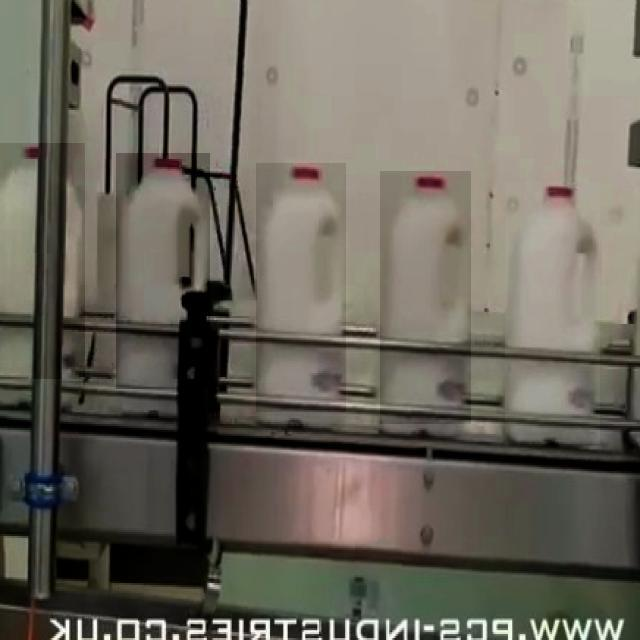red: (385, 173, 472, 439), (115, 150, 207, 394), (261, 161, 346, 413), (1, 143, 82, 387), (524, 171, 594, 437)
